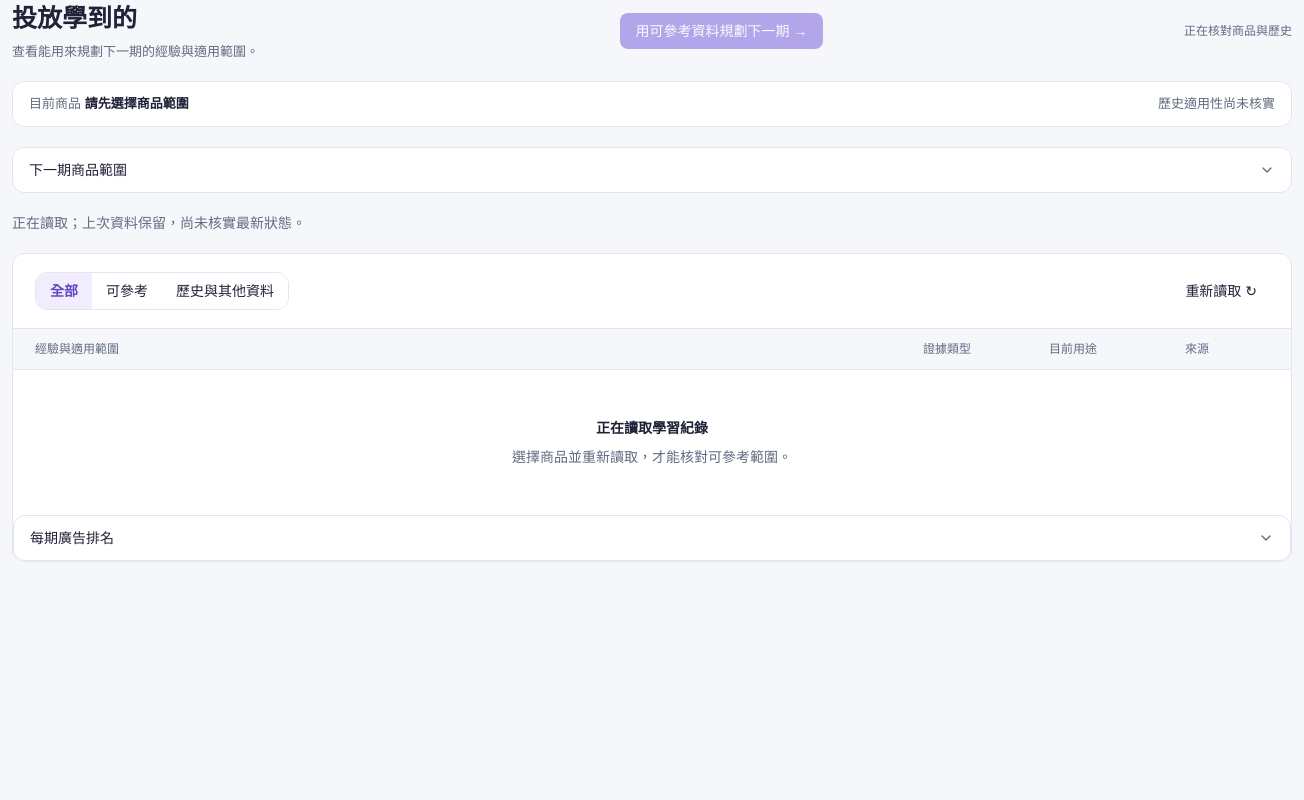
Scenario: LearningsTab 投放學到的 › empty state: 還沒有結案的活動 with 到投放中心, no next link
What coordinates should you click on to do the following:
click the button "每期廣告排名"
I would click on:
 (72, 538)
Its box is x1=14 y1=516 x2=1290 y2=560.
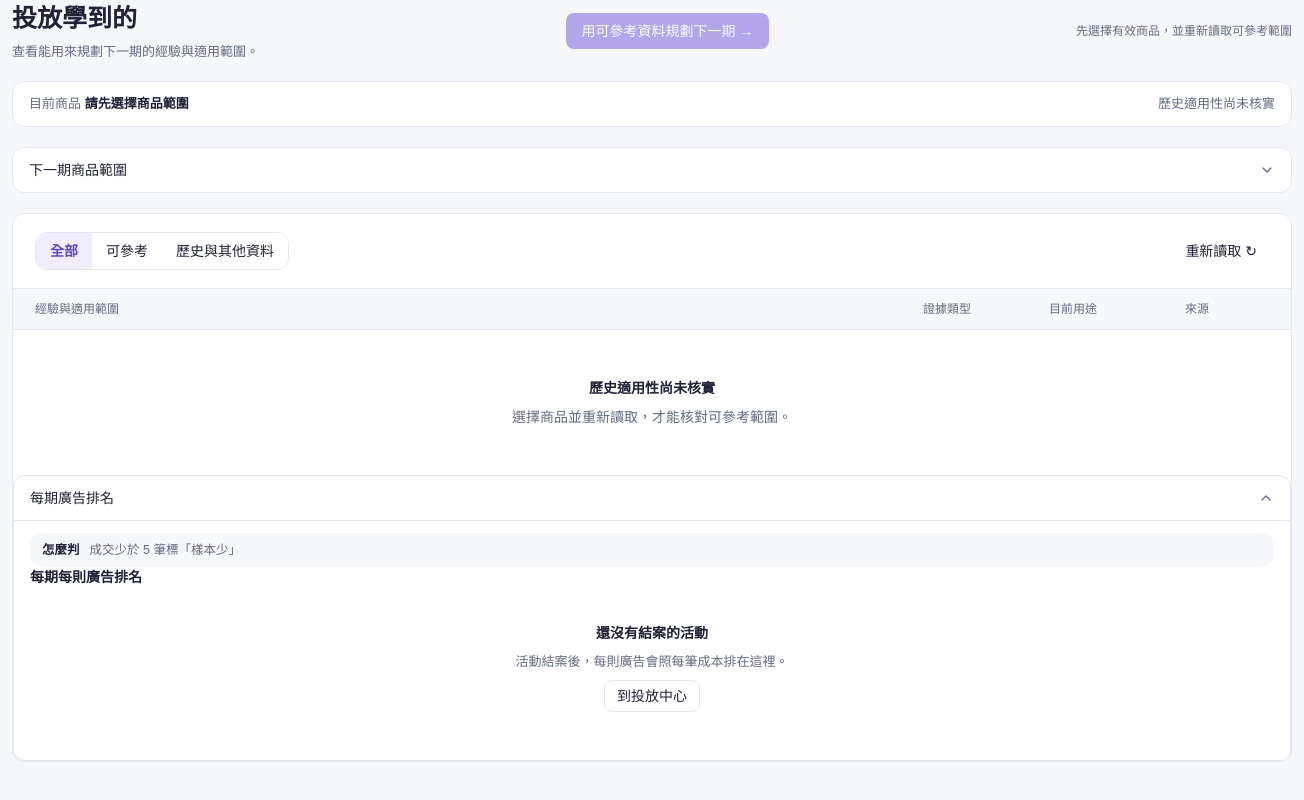
Now the text "還沒有結案的活動" is shown, box x1=596 y1=623 x2=708 y2=644
